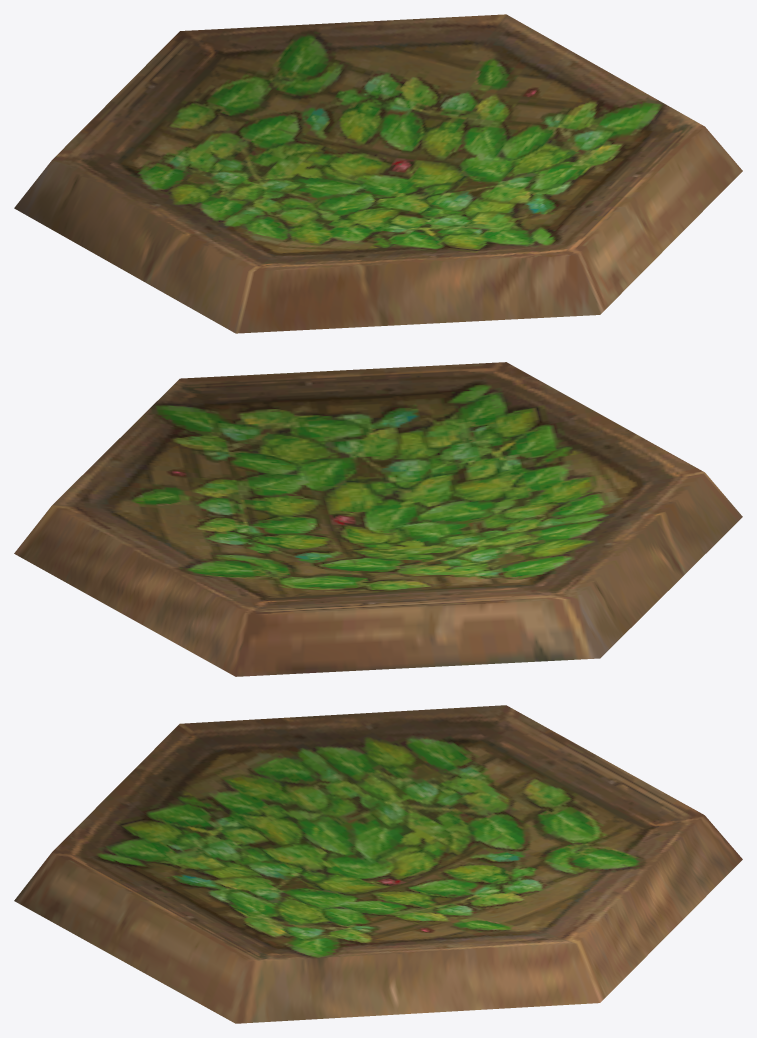
The model's file is environment_common_zhongyaojia_001_c.FBX.
The picture shows the model from 3 angles, top to bottom: view 1: azimuth 30°, elevation 25°; view 2: azimuth 150°, elevation 25°; view 3: azimuth 270°, elevation 25°; orthographic projection.
Parts seen in each view (by area): view 1: environment_common_zhongyaojia_001_c; view 2: environment_common_zhongyaojia_001_c; view 3: environment_common_zhongyaojia_001_c.
Part boxes in pixels (box(x1,y1,x2,y2)): environment_common_zhongyaojia_001_c: box(14, 14, 742, 333); environment_common_zhongyaojia_001_c: box(14, 362, 742, 676); environment_common_zhongyaojia_001_c: box(14, 705, 742, 1023).
Size of the model in its own units: 98.03 by 7.87 by 106.
